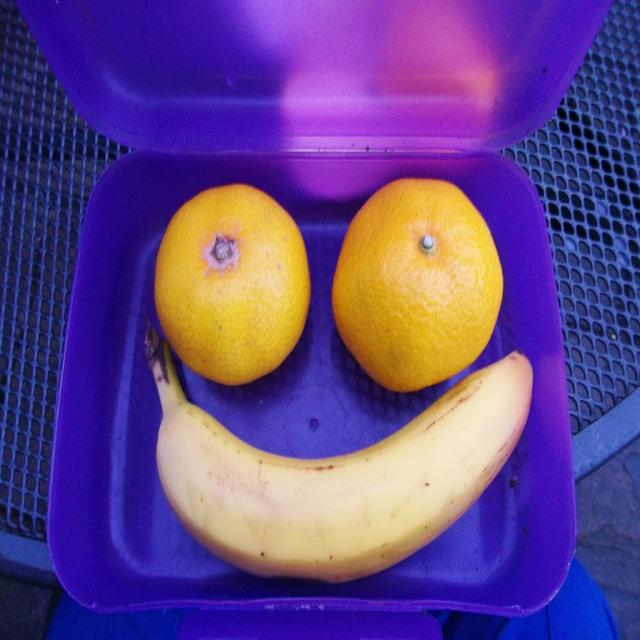Banana: (153, 356, 539, 586)
Orange: (334, 174, 505, 392), (156, 188, 310, 384)
